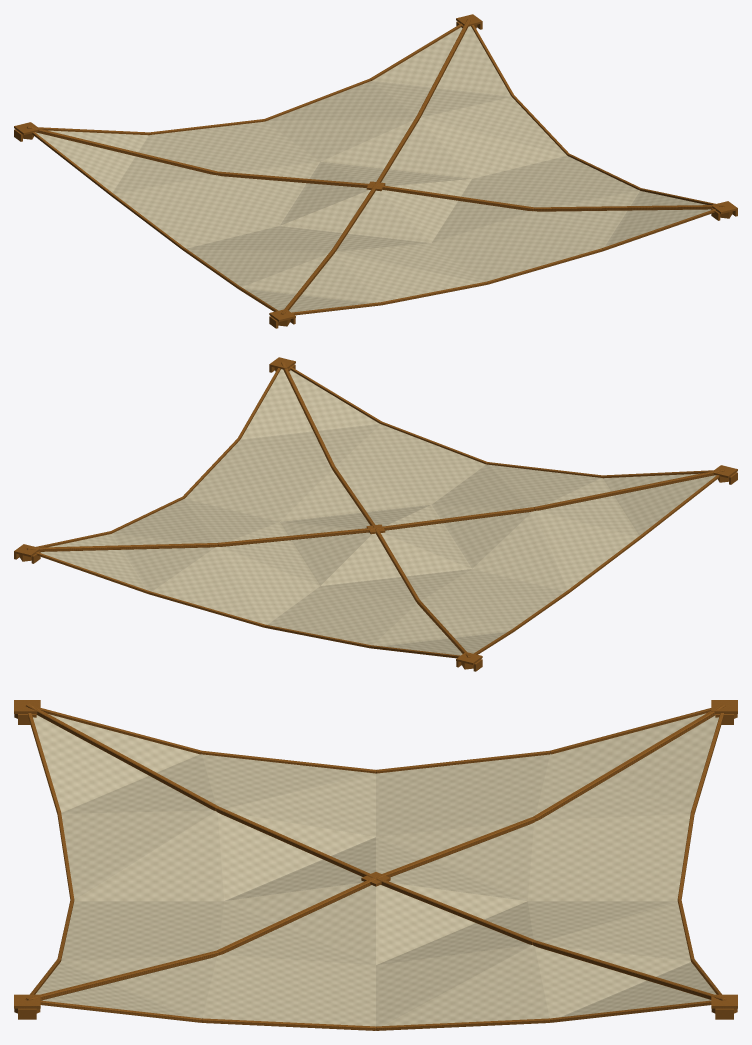
3 renders of one model, top to bottom at view 1: azimuth 30°, elevation 25°; view 2: azimuth 150°, elevation 25°; view 3: azimuth 270°, elevation 25°, orthographic. The views are drawn at different scales.
Parts seen in each view (by area): view 1: Shallow scalloped four-point tension textile.002, Diagonal raised sewn rib.044, Diagonal raised sewn rib.047, Diagonal raised sewn rib.046, Diagonal raised sewn rib.045, Diagonal raised sewn rib.043; view 2: Shallow scalloped four-point tension textile.002, Diagonal raised sewn rib.040, Diagonal raised sewn rib.043, Diagonal raised sewn rib.041, Diagonal raised sewn rib.042, Diagonal raised sewn rib.047; view 3: Shallow scalloped four-point tension textile.002, Diagonal raised sewn rib.044, Diagonal raised sewn rib.040, Diagonal raised sewn rib.043, Diagonal raised sewn rib.047, Diagonal raised sewn rib.046, Diagonal raised sewn rib.041, Diagonal raised sewn rib.042, Diagonal raised sewn rib.045, Scalloped bronze-bound fabric hem.085, Scalloped bronze-bound fabric hem.086, Scalloped bronze-bound fabric hem.084 (+5 smaller).
Boxes of the visible parts, x1,y1,x2,y2 form: Shallow scalloped four-point tension textile.002: (35, 26, 711, 312); Diagonal raised sewn rib.044: (27, 126, 217, 175); Diagonal raised sewn rib.047: (534, 205, 724, 211); Diagonal raised sewn rib.046: (376, 184, 534, 211); Diagonal raised sewn rib.045: (217, 171, 375, 187); Diagonal raised sewn rib.043: (417, 18, 470, 117); Shallow scalloped four-point tension textile.002: (40, 369, 716, 655); Diagonal raised sewn rib.040: (534, 469, 724, 510); Diagonal raised sewn rib.043: (27, 543, 217, 551); Diagonal raised sewn rib.041: (376, 507, 534, 530); Diagonal raised sewn rib.042: (217, 527, 375, 546); Diagonal raised sewn rib.047: (281, 362, 334, 468); Shallow scalloped four-point tension textile.002: (33, 713, 718, 1026); Diagonal raised sewn rib.044: (533, 704, 725, 821); Diagonal raised sewn rib.040: (26, 704, 218, 810); Diagonal raised sewn rib.043: (533, 940, 725, 1000); Diagonal raised sewn rib.047: (26, 950, 218, 1000); Diagonal raised sewn rib.046: (216, 877, 375, 955); Diagonal raised sewn rib.041: (216, 806, 376, 877); Diagonal raised sewn rib.042: (375, 877, 535, 944); Diagonal raised sewn rib.045: (376, 817, 535, 877); Scalloped bronze-bound fabric hem.085: (201, 1018, 375, 1030); Scalloped bronze-bound fabric hem.086: (376, 1018, 550, 1030); Scalloped bronze-bound fabric hem.084: (27, 1000, 201, 1022).
Size of the model in its own units: 3.55 by 0.2725 by 3.53.
Materials: 2 (2 with a texture image).
